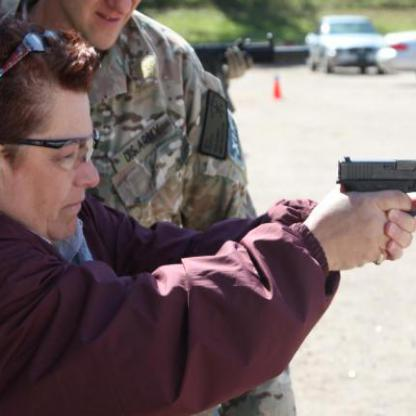gun: (338, 156, 415, 217)
